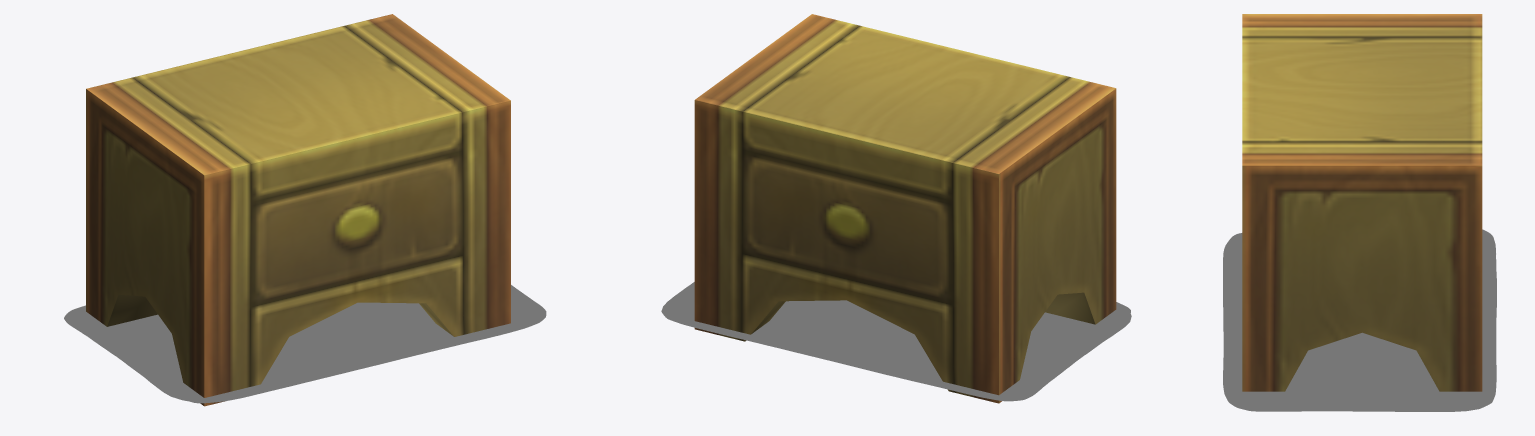
Rendered from FT_Green_Desk02_ST.FBX.
3 renders of one model, left to right at view 1: azimuth 30°, elevation 25°; view 2: azimuth 150°, elevation 25°; view 3: azimuth 270°, elevation 25°, orthographic. The views are drawn at different scales.
Visible parts, largest first — view 1: FT_Green_Desk02_ST, FT_Green_Desk02_ST_shadow01; view 2: FT_Green_Desk02_ST, FT_Green_Desk02_ST_shadow01; view 3: FT_Green_Desk02_ST, FT_Green_Desk02_ST_shadow01.
Part boxes in pixels (x1,y1,x2,y2): FT_Green_Desk02_ST: (86,14,510,406); FT_Green_Desk02_ST_shadow01: (64,285,546,403); FT_Green_Desk02_ST: (694,14,1116,403); FT_Green_Desk02_ST_shadow01: (661,282,1131,401); FT_Green_Desk02_ST: (1242,14,1482,391); FT_Green_Desk02_ST_shadow01: (1223,229,1496,411).
Bounding box in the file's own units: 0.9477 × 0.4975 × 0.5942.
